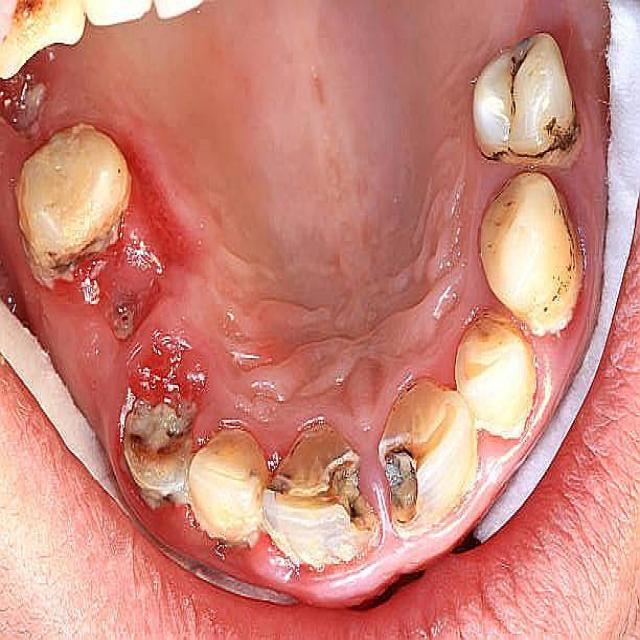caries: (120, 396, 194, 501), (377, 421, 430, 528), (323, 449, 374, 544), (496, 40, 542, 107), (264, 462, 314, 512)
